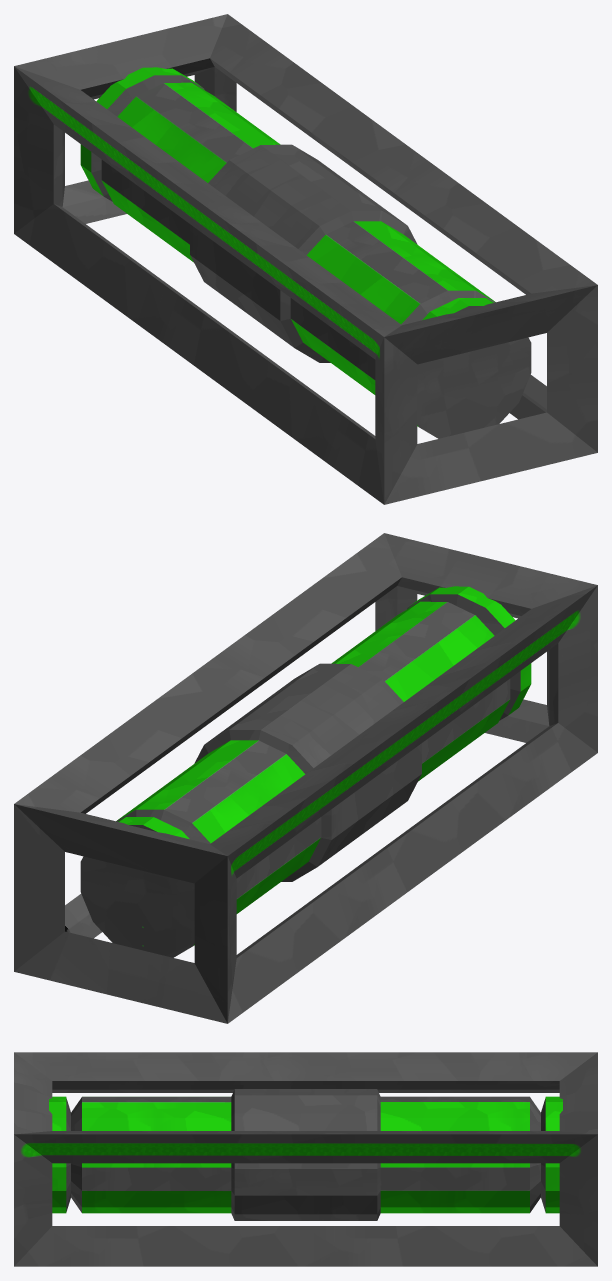
Rendered from Flip.fbx.
3 renders of one model, top to bottom at view 1: azimuth 30°, elevation 25°; view 2: azimuth 150°, elevation 25°; view 3: azimuth 270°, elevation 25°, orthographic. The views are drawn at different scales.
Visible parts, largest first — view 1: FlipBlock, FlipBlockSpin; view 2: FlipBlock, FlipBlockSpin; view 3: FlipBlock, FlipBlockSpin.
Boxes of the visible parts, <box> form: FlipBlock: <box>14,14,597,504</box>; FlipBlockSpin: <box>80,67,531,438</box>; FlipBlock: <box>14,533,597,1023</box>; FlipBlockSpin: <box>80,586,531,957</box>; FlipBlock: <box>14,1052,597,1266</box>; FlipBlockSpin: <box>49,1089,562,1220</box>.
Size of the model in its own units: 200 by 150 by 600.
1 material, 1 textured.
